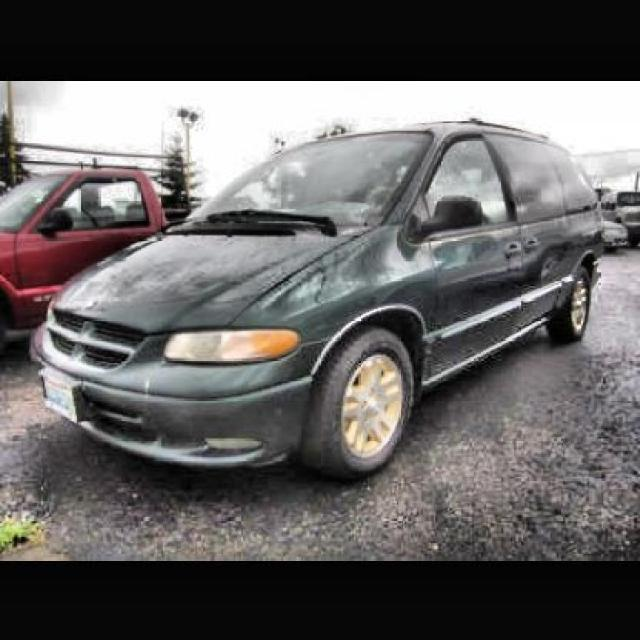black: (33, 123, 603, 475)
